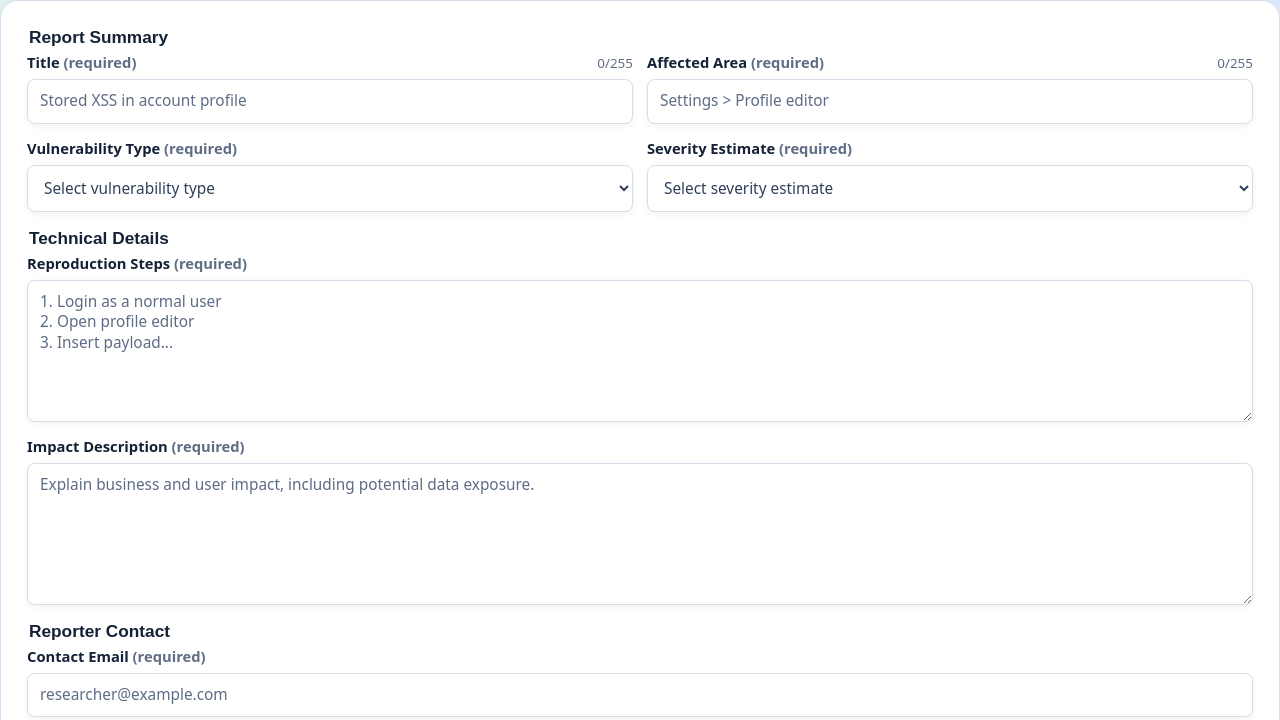
ReportForm › renders live character counters for title and affected area
Expected: the text "0/255" is shown 2 times, [597,54,633,72]; [1217,54,1253,72]
In the field labelled "Title (required)": (330, 101) [27,79,633,124], type "abc"
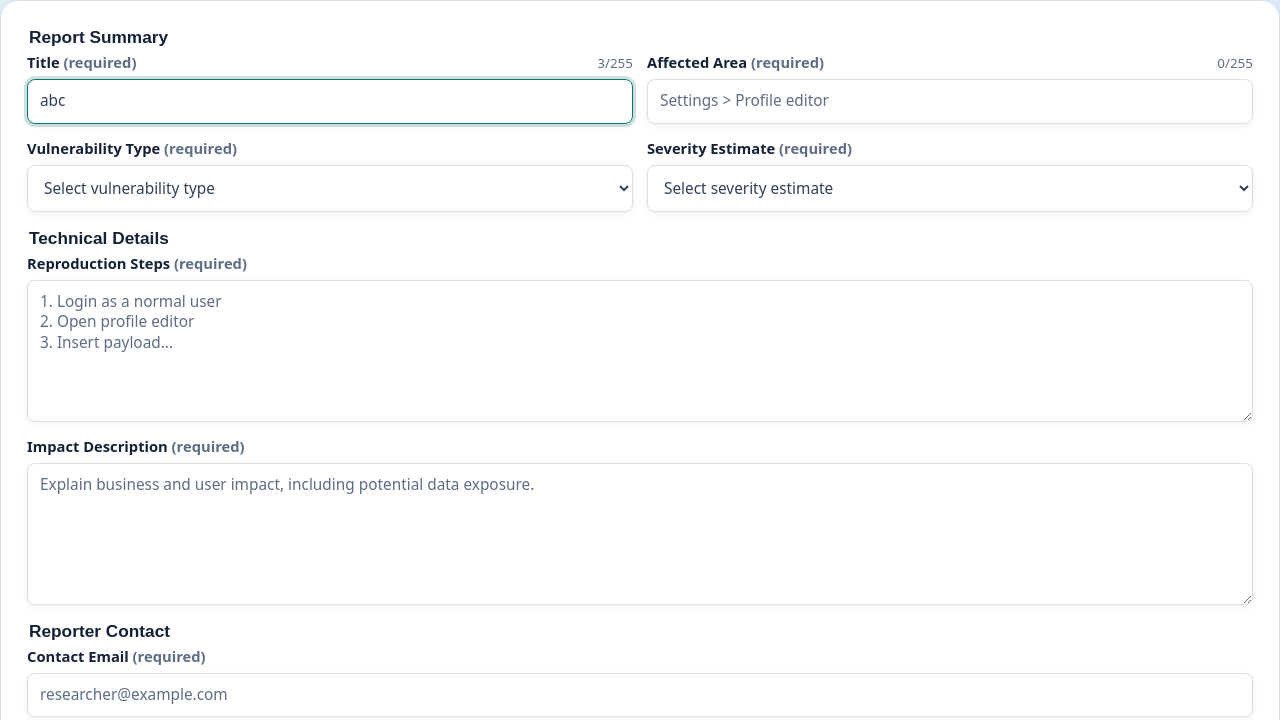
In the field labelled "Affected Area (required)": (950, 101) [647,79,1253,124], type "abcd"
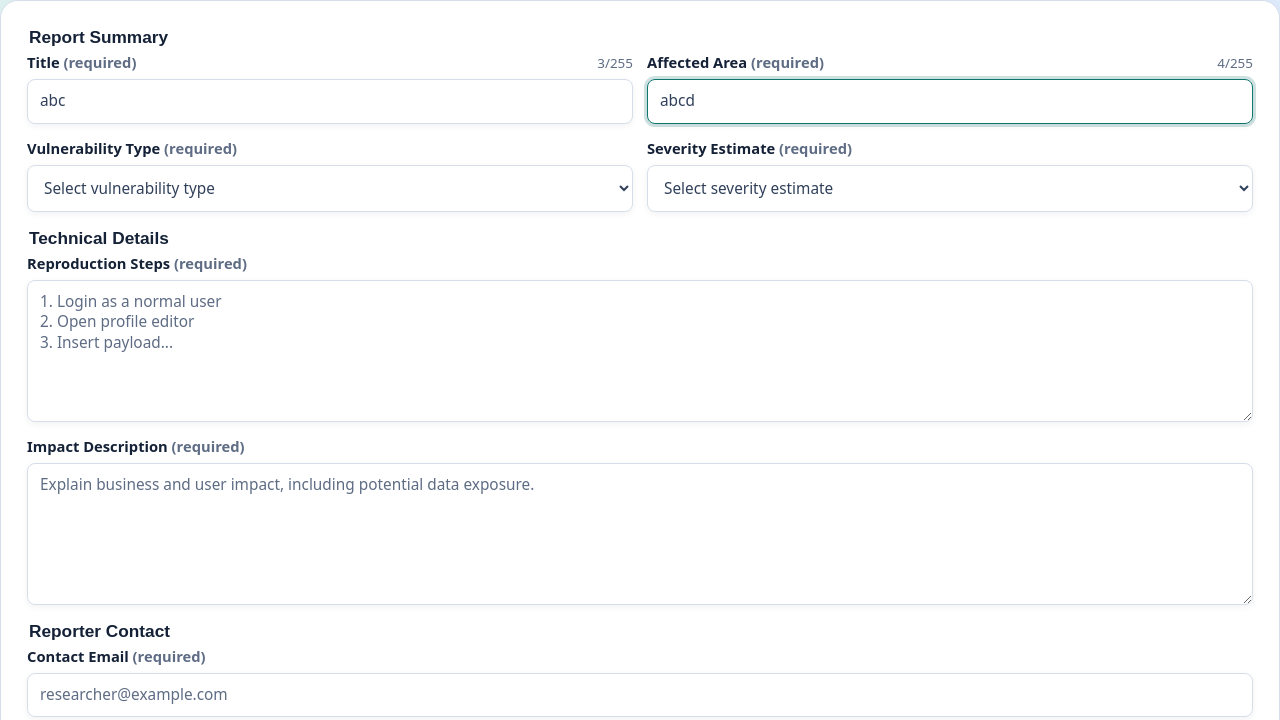
Now the text "3/255" is shown, box [597,54,633,72]
Now the text "4/255" is shown, box [1217,54,1253,72]
